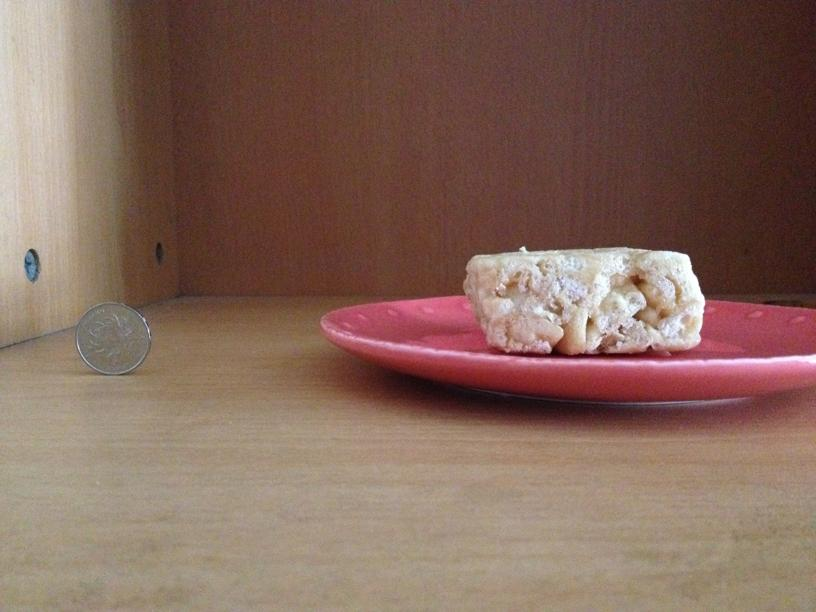coin: (75, 299, 151, 375)
sachima: (462, 244, 703, 354)
